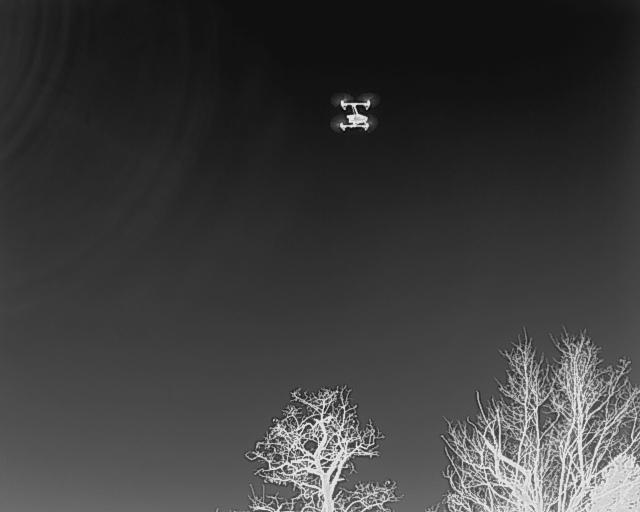drone: (323, 88, 383, 139)
